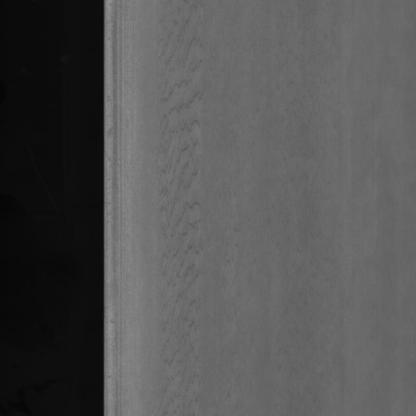silk_spot: (151, 7, 205, 413)
